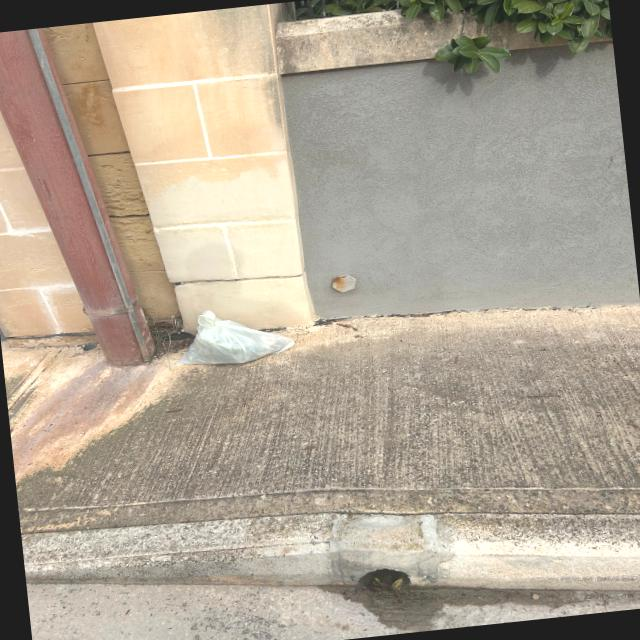white_bag: (168, 298, 298, 373)
